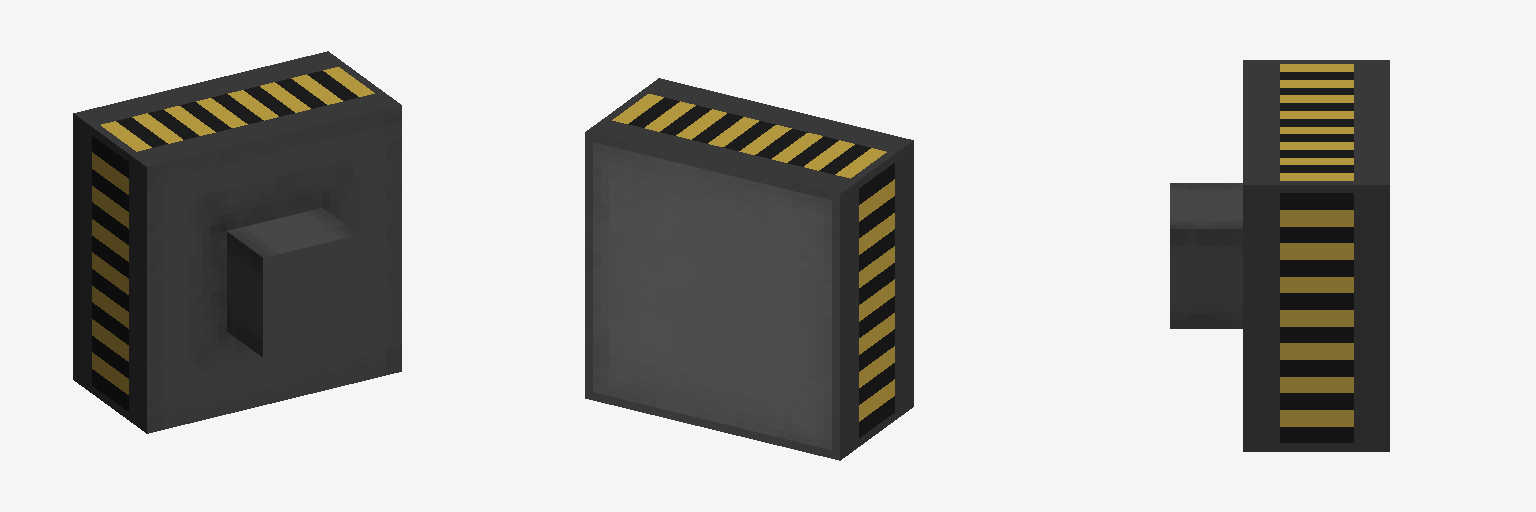
The picture shows the model from 3 angles: view 1: azimuth 30°, elevation 25°; view 2: azimuth 150°, elevation 25°; view 3: azimuth 270°, elevation 25°; orthographic projection.
Parts seen in each view (by area): view 1: cuboid; view 2: cuboid; view 3: cuboid.
Part boxes in pixels (x1,y1,x2,y2): cuboid: (73,51,401,433); cuboid: (585,78,913,460); cuboid: (1170,60,1389,451).
Size of the model in its own units: 1 by 1 by 0.75.
Materials: 1 (1 with a texture image).